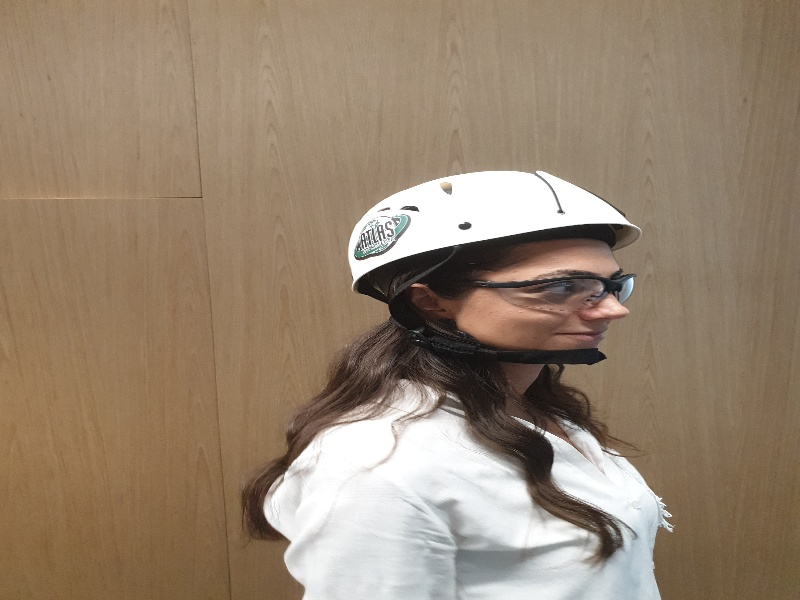Baret: (346, 167, 639, 261)
Gozluk: (457, 274, 635, 305)
